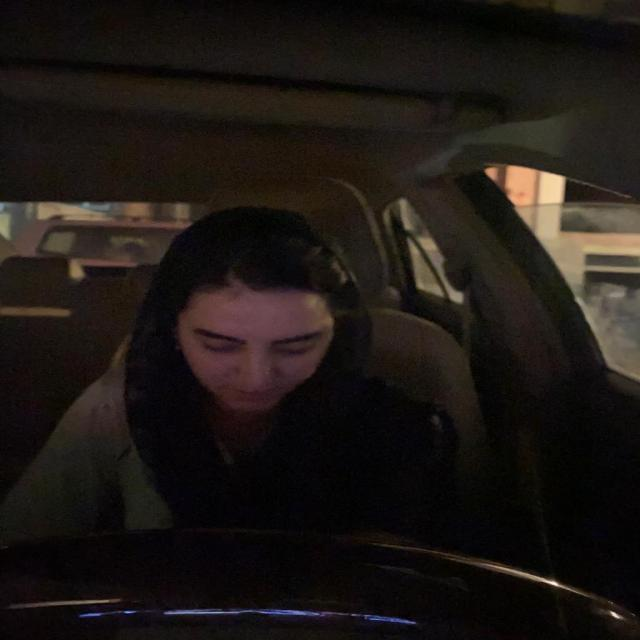drowsy: (156, 250, 348, 420)
